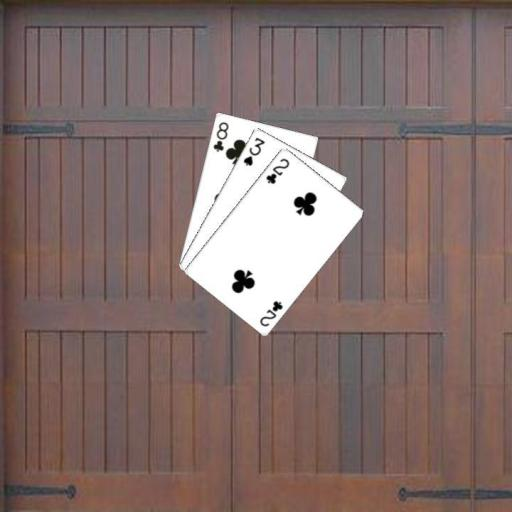2C: (262, 155, 291, 186), (257, 297, 284, 328)
3S: (240, 134, 266, 167)
8C: (210, 118, 230, 153)
